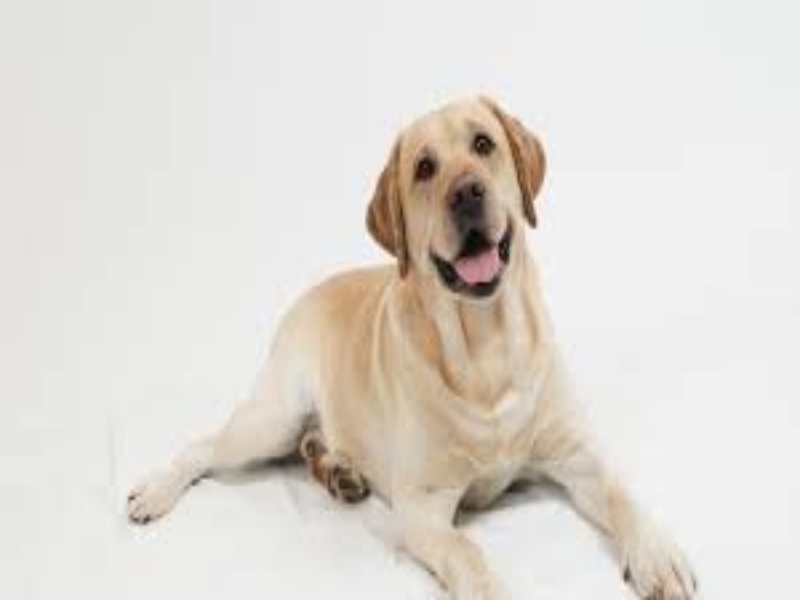dog: (110, 85, 729, 592)
